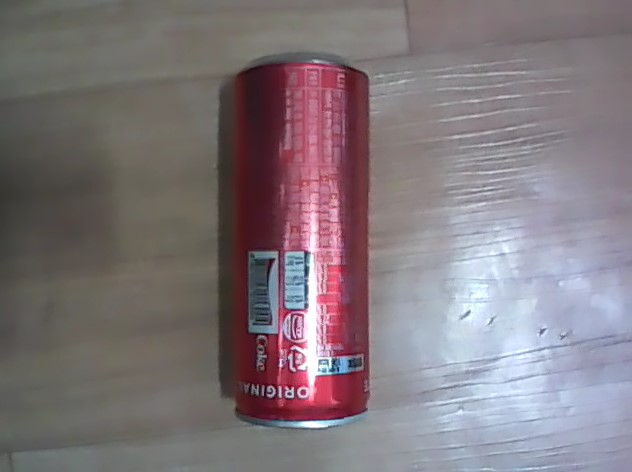Can: (210, 46, 377, 437)
